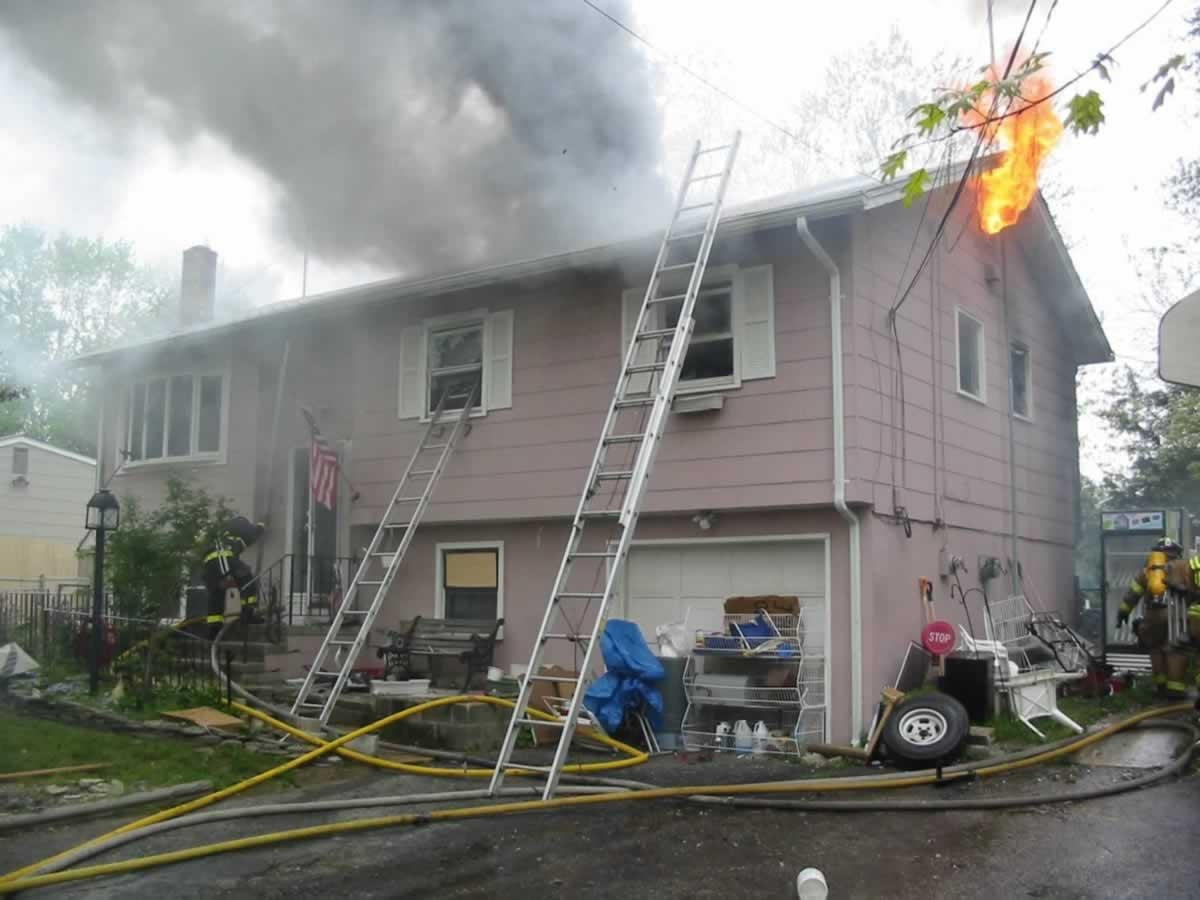fire: (961, 58, 1063, 234)
